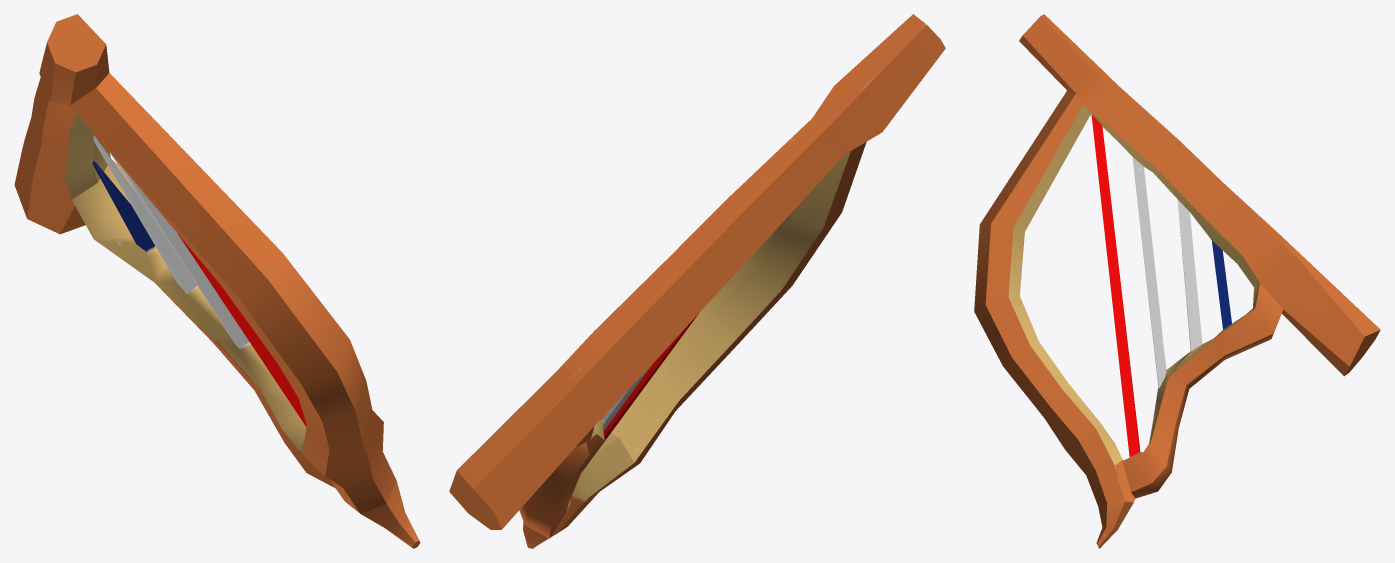
The model's file is Arpa3_000001.obj.
The picture shows the model from 3 angles, left to right: view 1: azimuth 30°, elevation 25°; view 2: azimuth 150°, elevation 25°; view 3: azimuth 270°, elevation 25°; orthographic projection. The views are drawn at different scales.
Visible parts, largest first — view 1: a3_Arpa_1:pCube6; view 2: a3_Arpa_1:pCube6; view 3: a3_Arpa_1:pCube6.
Boxes of the visible parts, x1=… form: a3_Arpa_1:pCube6: x1=14, y1=14, x2=420, y2=548; a3_Arpa_1:pCube6: x1=449, y1=14, x2=945, y2=548; a3_Arpa_1:pCube6: x1=974, y1=14, x2=1380, y2=548.
Bounding box in the file's own units: 5.44 × 8.2 × 7.28.
